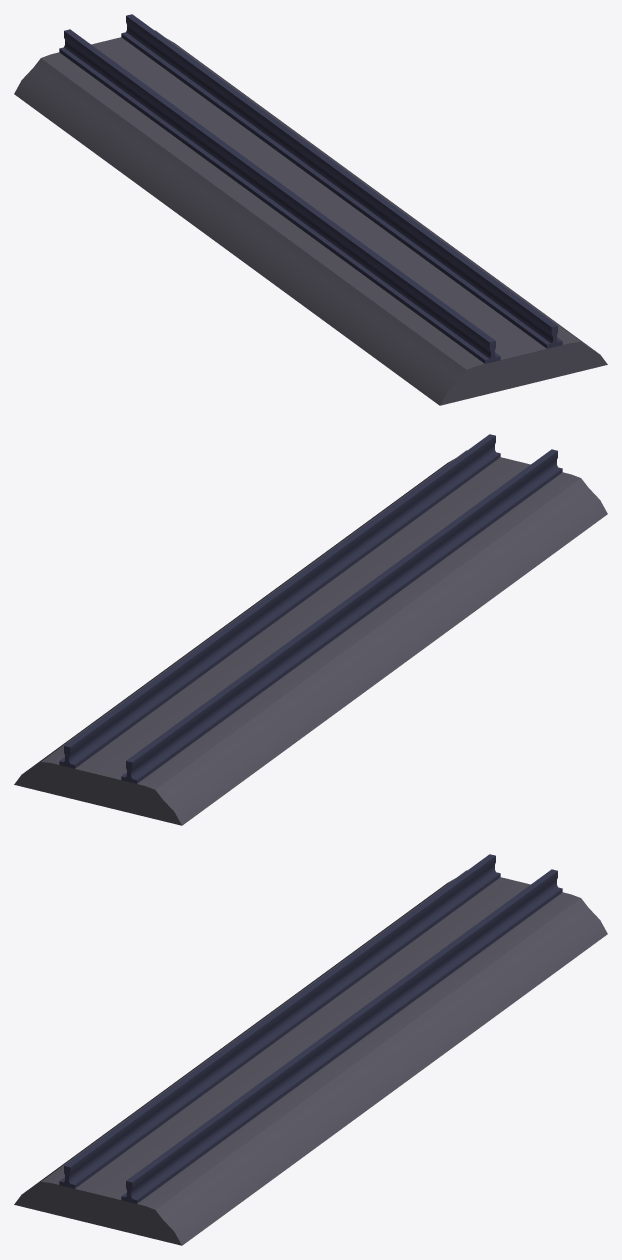
Rendered from rails.fbx.
The picture shows the model from 3 angles, top to bottom: view 1: azimuth 30°, elevation 25°; view 2: azimuth 150°, elevation 25°; view 3: azimuth 330°, elevation 25°; orthographic projection.
Parts seen in each view (by area): view 1: Plane, Cube.011; view 2: Plane, Cube.011; view 3: Plane, Cube.011.
Part boxes in pixels (box(x1,y1,x2,y2)): Plane: box(14, 30, 607, 405); Cube.011: box(59, 14, 562, 363); Plane: box(14, 450, 607, 825); Cube.011: box(59, 434, 562, 783); Plane: box(14, 870, 607, 1245); Cube.011: box(59, 854, 562, 1203).
Size of the model in its own units: 611 by 177 by 2678.
